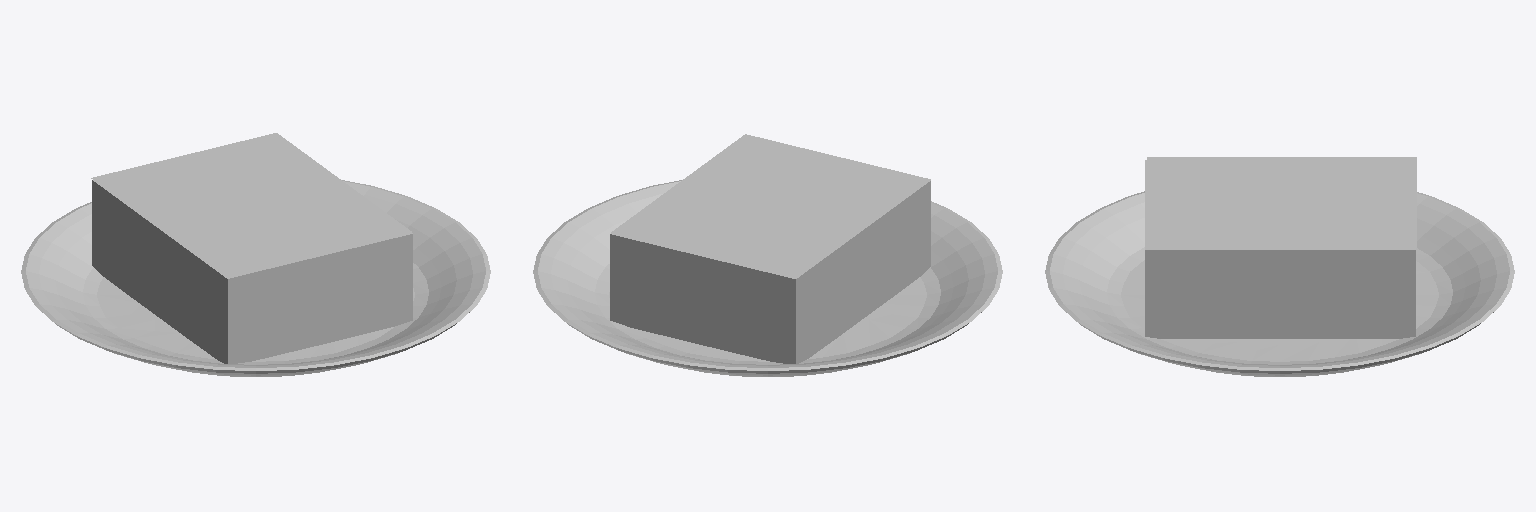
Rendered from kue engkak ketan.obj.
3 views of the same model, side by side, from view 1: azimuth 30°, elevation 25°; view 2: azimuth 150°, elevation 25°; view 3: azimuth 270°, elevation 25° (orthographic).
Visible parts, largest first — view 1: Cube.002_Cube.010, Cylinder, Cube.001; view 2: Cube.002_Cube.010, Cylinder, Cube.001; view 3: Cylinder, Cube.002_Cube.010, Cube.001.
Boxes of the visible parts, x1,y1,x2,y2 form: Cube.002_Cube.010: [92, 180, 412, 363]; Cylinder: [21, 180, 490, 376]; Cube.001: [91, 133, 411, 276]; Cube.002_Cube.010: [610, 180, 930, 363]; Cylinder: [533, 180, 1002, 376]; Cube.001: [611, 134, 930, 277]; Cylinder: [1045, 191, 1514, 376]; Cube.002_Cube.010: [1145, 160, 1415, 338]; Cube.001: [1147, 157, 1416, 247].
Bounding box in the file's own units: 2.31 × 0.5566 × 2.31.